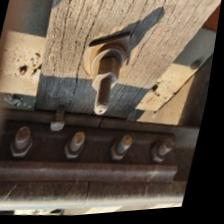person: (72, 179, 115, 215), (95, 116, 115, 134)
